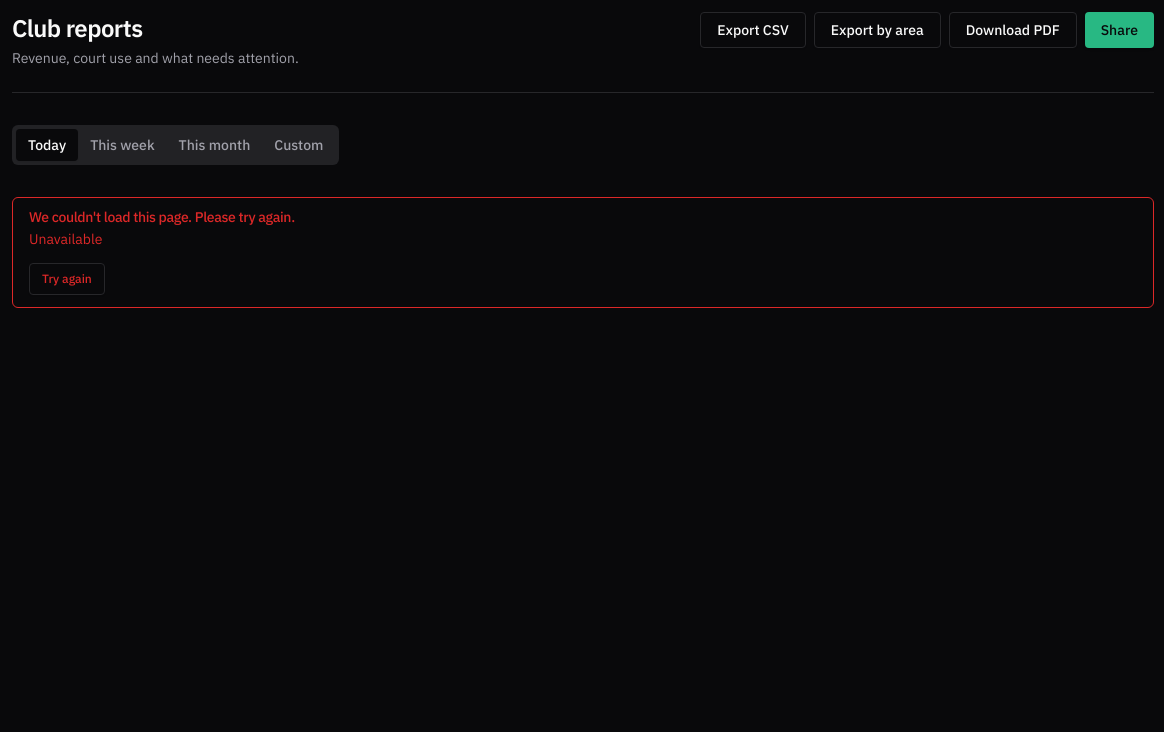
owner reports › reports errors and offers retry
Expected: the text "Unavailable" is shown, [29, 230, 102, 248]
Click the button "Try again" at point(67, 279), box [29, 263, 105, 295]
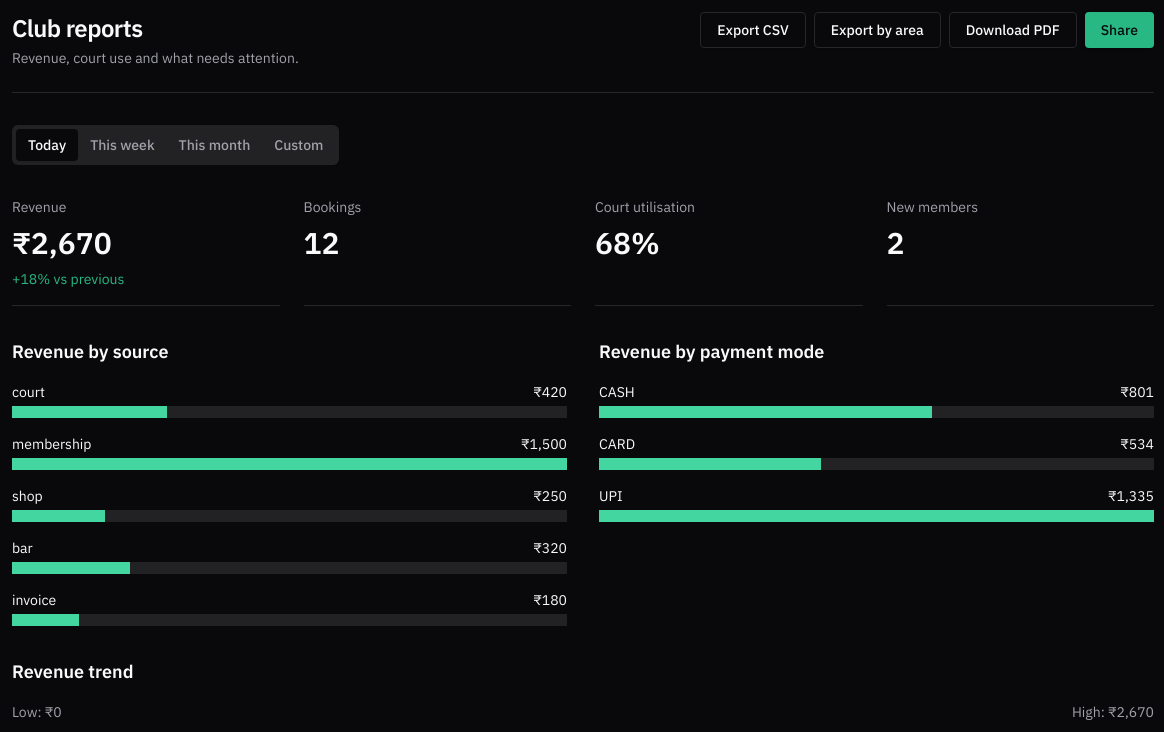
Now the heading "Revenue by source" is shown, box [12, 340, 168, 363]
